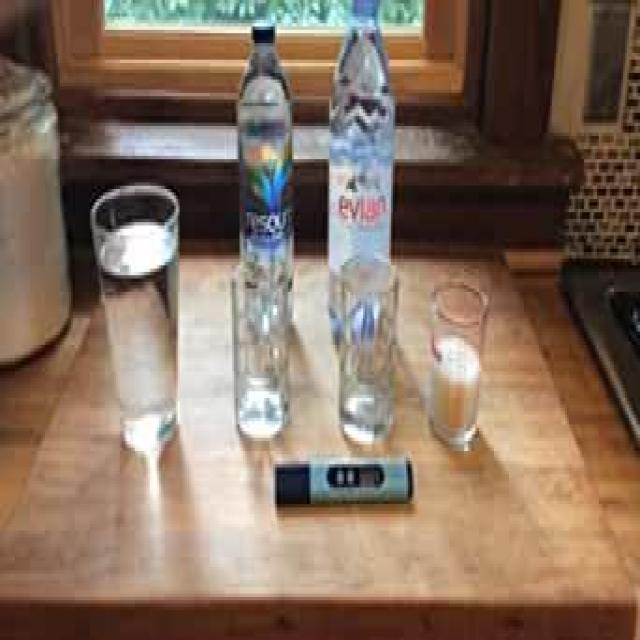bottle: (324, 0, 398, 378), (232, 13, 301, 348)
